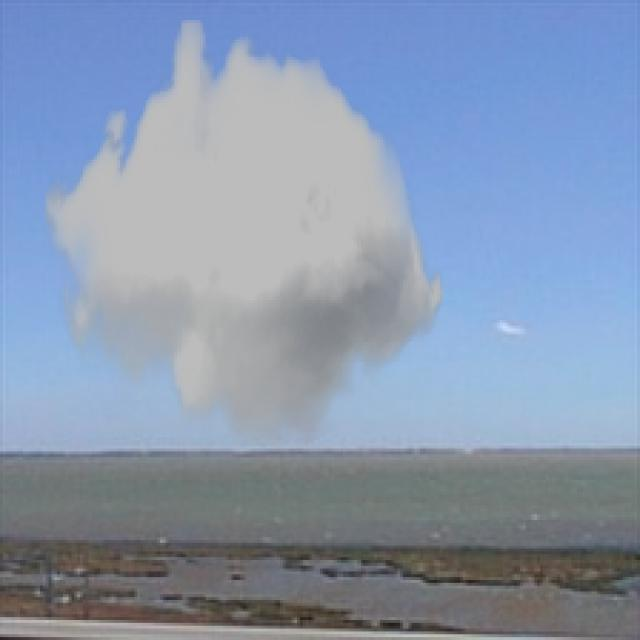Smoke: (43, 20, 446, 446)
